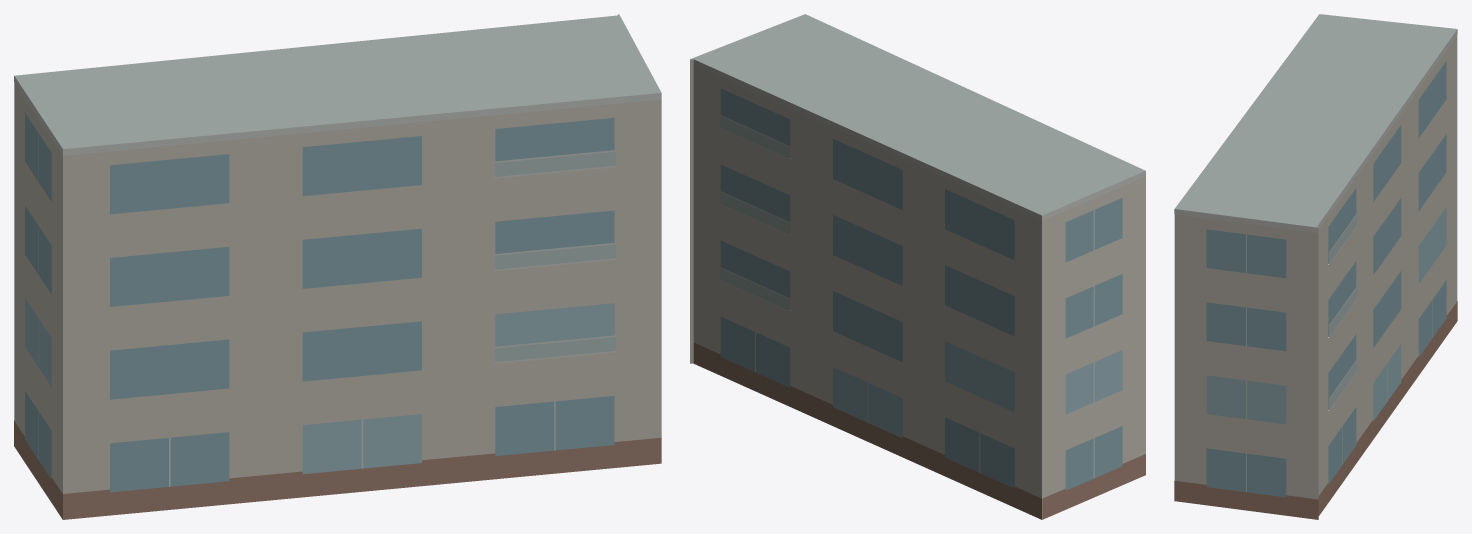
File: survey-upis-32874463.glb
The picture shows the model from 3 angles, left to right: view 1: azimuth 30°, elevation 25°; view 2: azimuth 150°, elevation 25°; view 3: azimuth 270°, elevation 25°; orthographic projection. The views are drawn at different scales.
Visible parts, largest first — view 1: survey-upis-32874463.tmp; view 2: survey-upis-32874463.tmp; view 3: survey-upis-32874463.tmp.
Boxes of the visible parts, x1=… form: survey-upis-32874463.tmp: x1=14, y1=14, x2=661, y2=519; survey-upis-32874463.tmp: x1=690, y1=14, x2=1145, y2=519; survey-upis-32874463.tmp: x1=1174, y1=14, x2=1457, y2=519.
Size of the model in its own units: 21.19 by 13.5 by 11.86.
